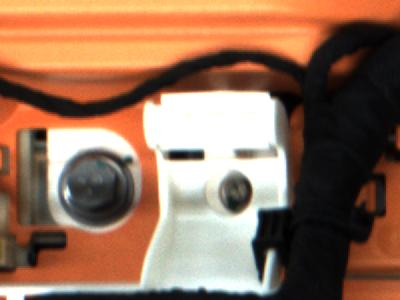nut_b: (54, 145, 137, 224)
